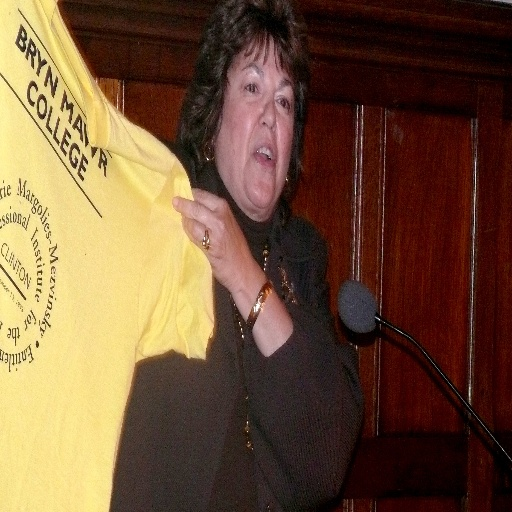hand: (178, 191, 306, 359)
